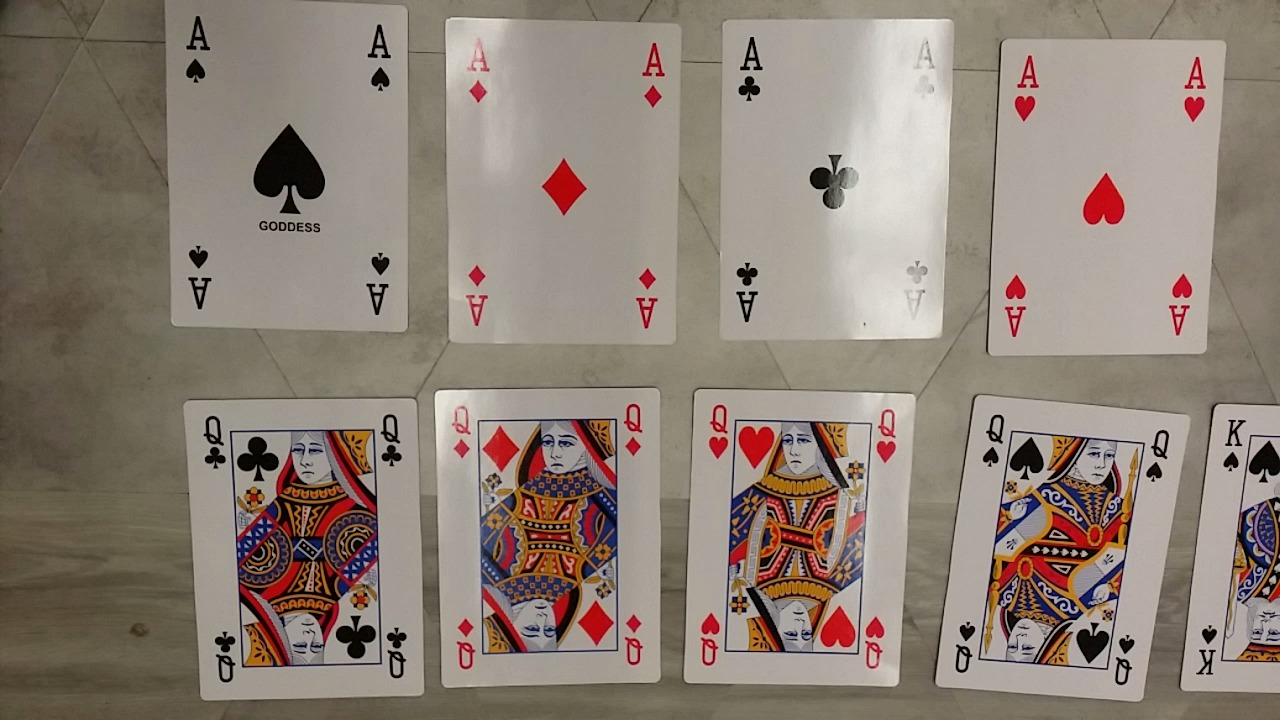1_club: (717, 17, 956, 339)
1_diamond: (444, 16, 677, 345)
1_heart: (985, 36, 1227, 357)
1_spade: (165, 0, 408, 332)
king_spade: (1177, 402, 1280, 693)
queen_club: (181, 398, 421, 701)
queen_diamond: (431, 388, 665, 688)
queen_heart: (677, 387, 914, 689)
queen_spade: (936, 394, 1188, 703)
